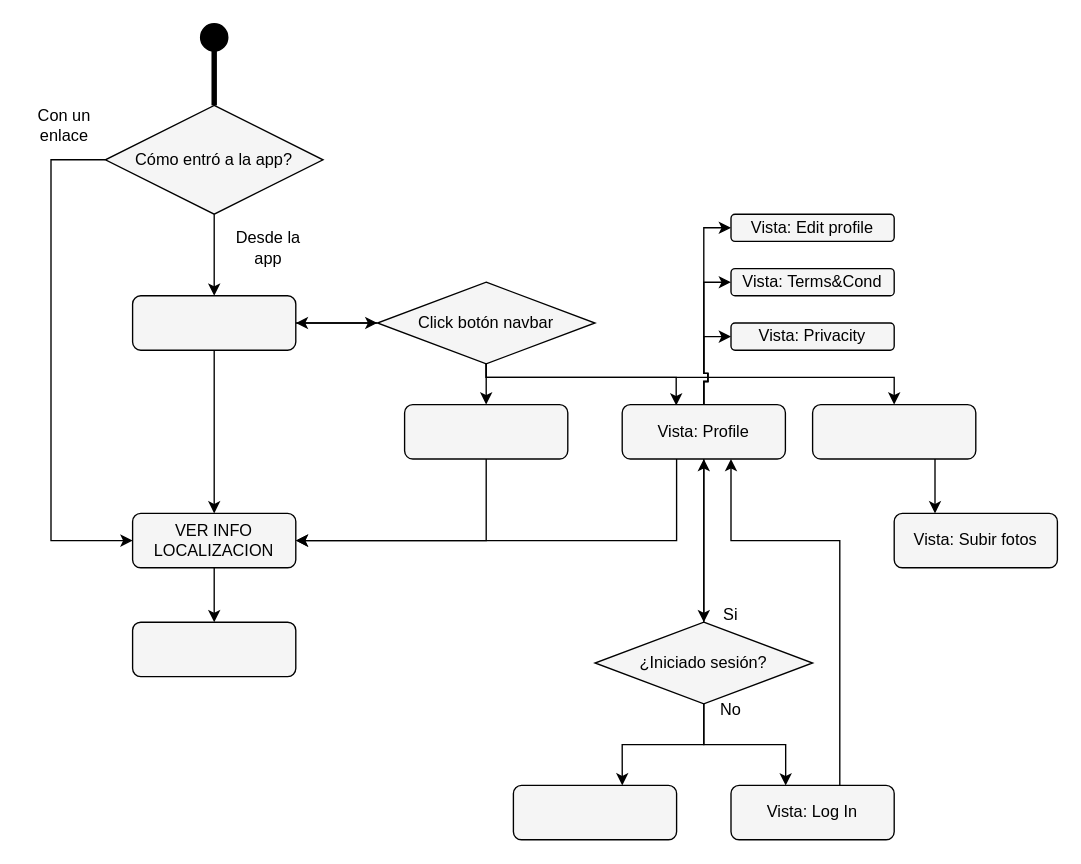
The diagram is 1081 pixels wide and 864 high, and some of its shapes have lost their labels. Here are the shapes that lost their labels. From the top down, the centre of each, then its label:
At (213,322): "Vista: Home".
At (485,431): "Vista: Mapa".
At (893,431): "Vista: Contribute".
At (213,649): "Vista: Tag".
At (594,812): "Vista: Register".
